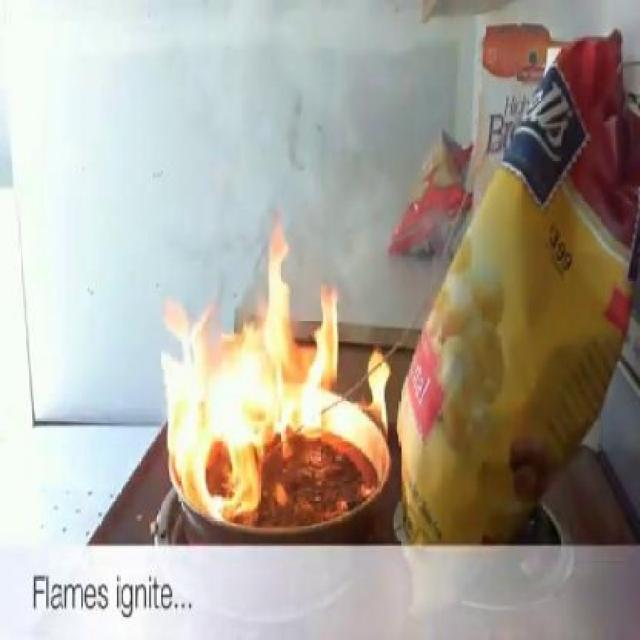fire: (154, 212, 394, 514)
